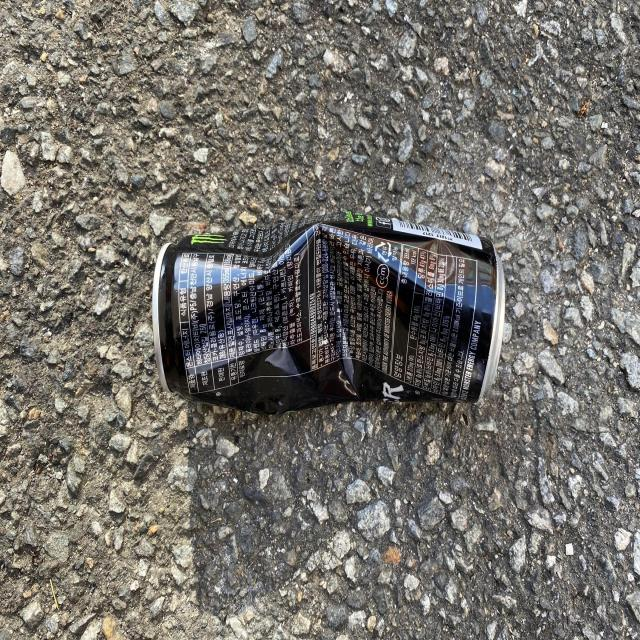can: (152, 211, 506, 414)
